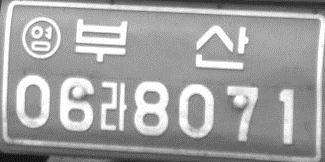0: (177, 82, 214, 138), (15, 74, 51, 129)
1: (270, 88, 304, 145)
6: (58, 75, 94, 133)
7: (225, 85, 259, 143)
8: (132, 80, 168, 136)
라: (99, 80, 127, 133)
부산_D: (74, 17, 249, 71)
영: (22, 15, 61, 60)
